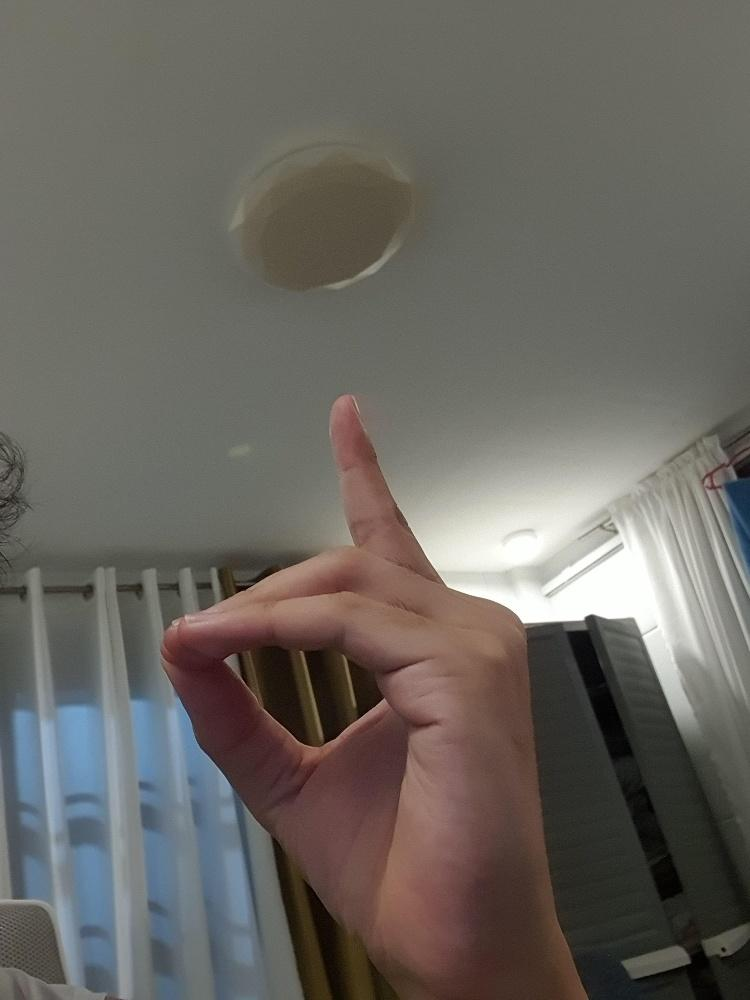d: (150, 386, 551, 982)
